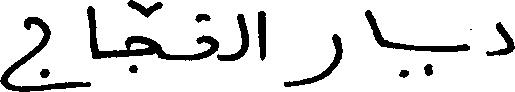X: (0, 12, 49, 91), (286, 29, 342, 91), (125, 0, 158, 77), (488, 17, 514, 60), (198, 9, 216, 64), (366, 5, 383, 51), (89, 1, 97, 91), (258, 6, 265, 65), (239, 9, 246, 63), (461, 39, 467, 55)
